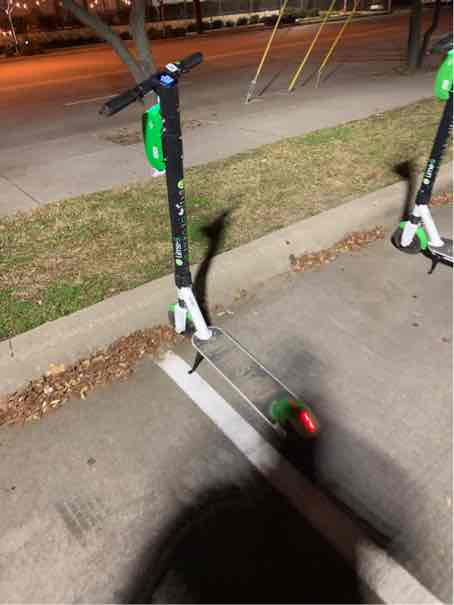scooter: (82, 45, 341, 451)
